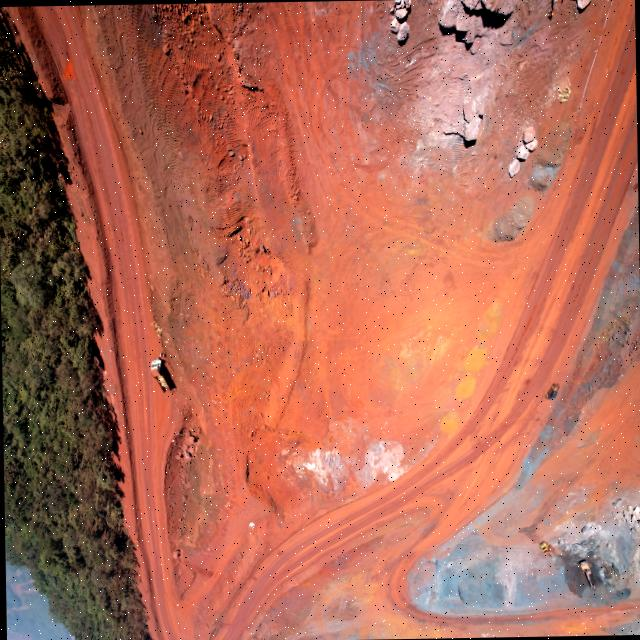Dumper truck: (149, 357, 169, 392), (538, 540, 556, 560)
Excavator: (579, 560, 595, 590)
car: (543, 382, 560, 402)
person: (564, 506, 568, 514)
